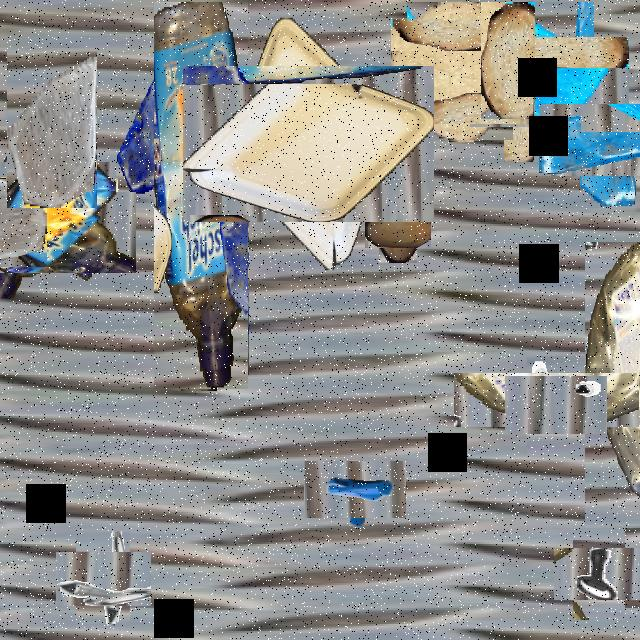glass: (486, 19, 612, 144), (7, 48, 97, 208), (552, 90, 640, 190), (116, 75, 182, 192)
metal: (516, 365, 596, 446), (177, 174, 237, 281), (315, 449, 395, 529), (66, 542, 140, 617), (563, 538, 635, 610), (70, 186, 126, 241)
plastic: (206, 42, 410, 246), (154, 2, 248, 389), (519, 307, 640, 492), (0, 149, 124, 285)
wood: (399, 10, 521, 132), (481, 2, 535, 119), (372, 203, 424, 256)
